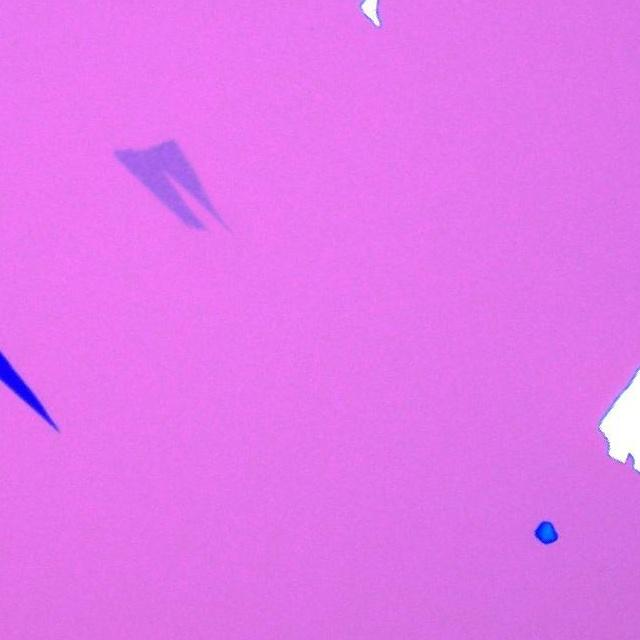monolayer-eWW4: (108, 138, 230, 230)
